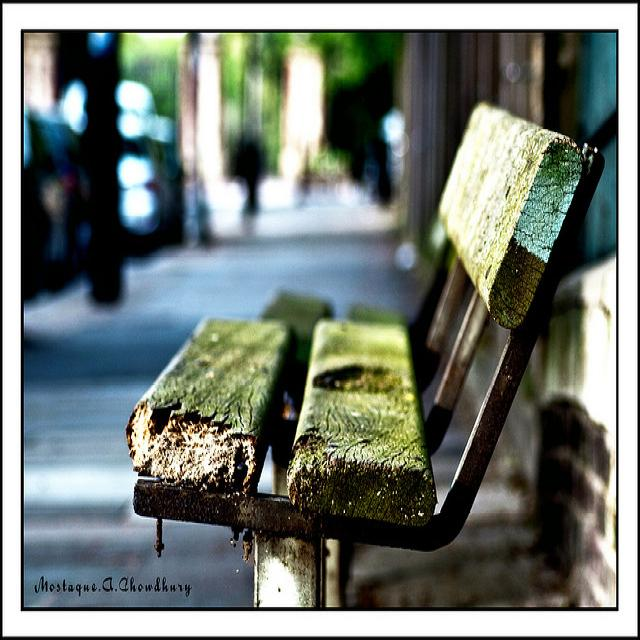Vehicle: (118, 109, 186, 250)
